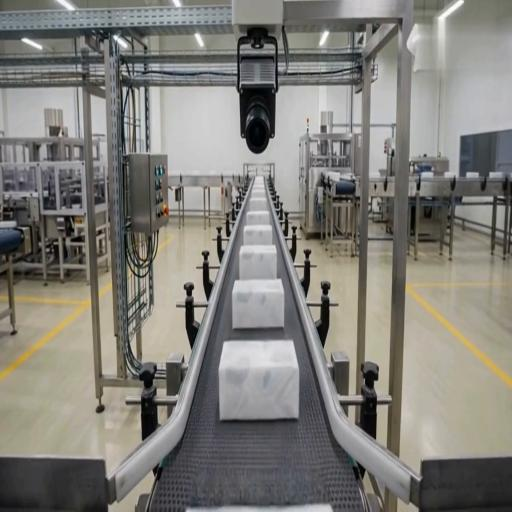good: (218, 338, 298, 421), (231, 279, 286, 331), (238, 246, 278, 280), (243, 224, 274, 246), (244, 210, 271, 226), (247, 195, 269, 213), (248, 187, 268, 202), (251, 176, 266, 186)
